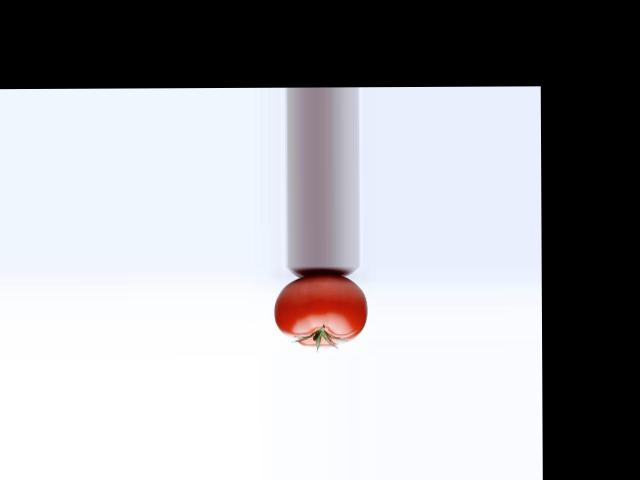tomato: (274, 274, 367, 346)
